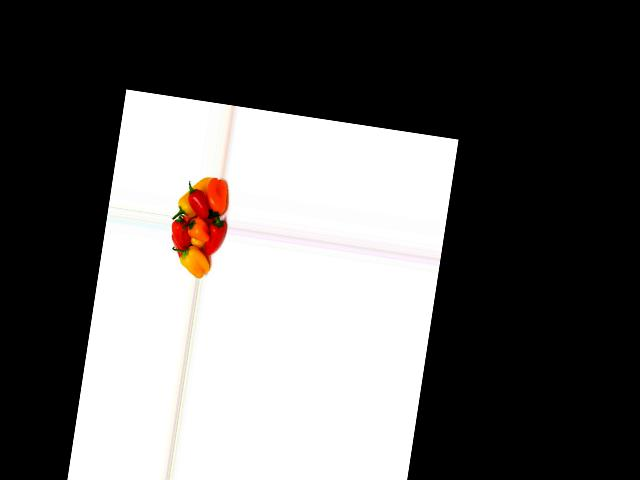bell_pepper: (173, 173, 210, 220)
